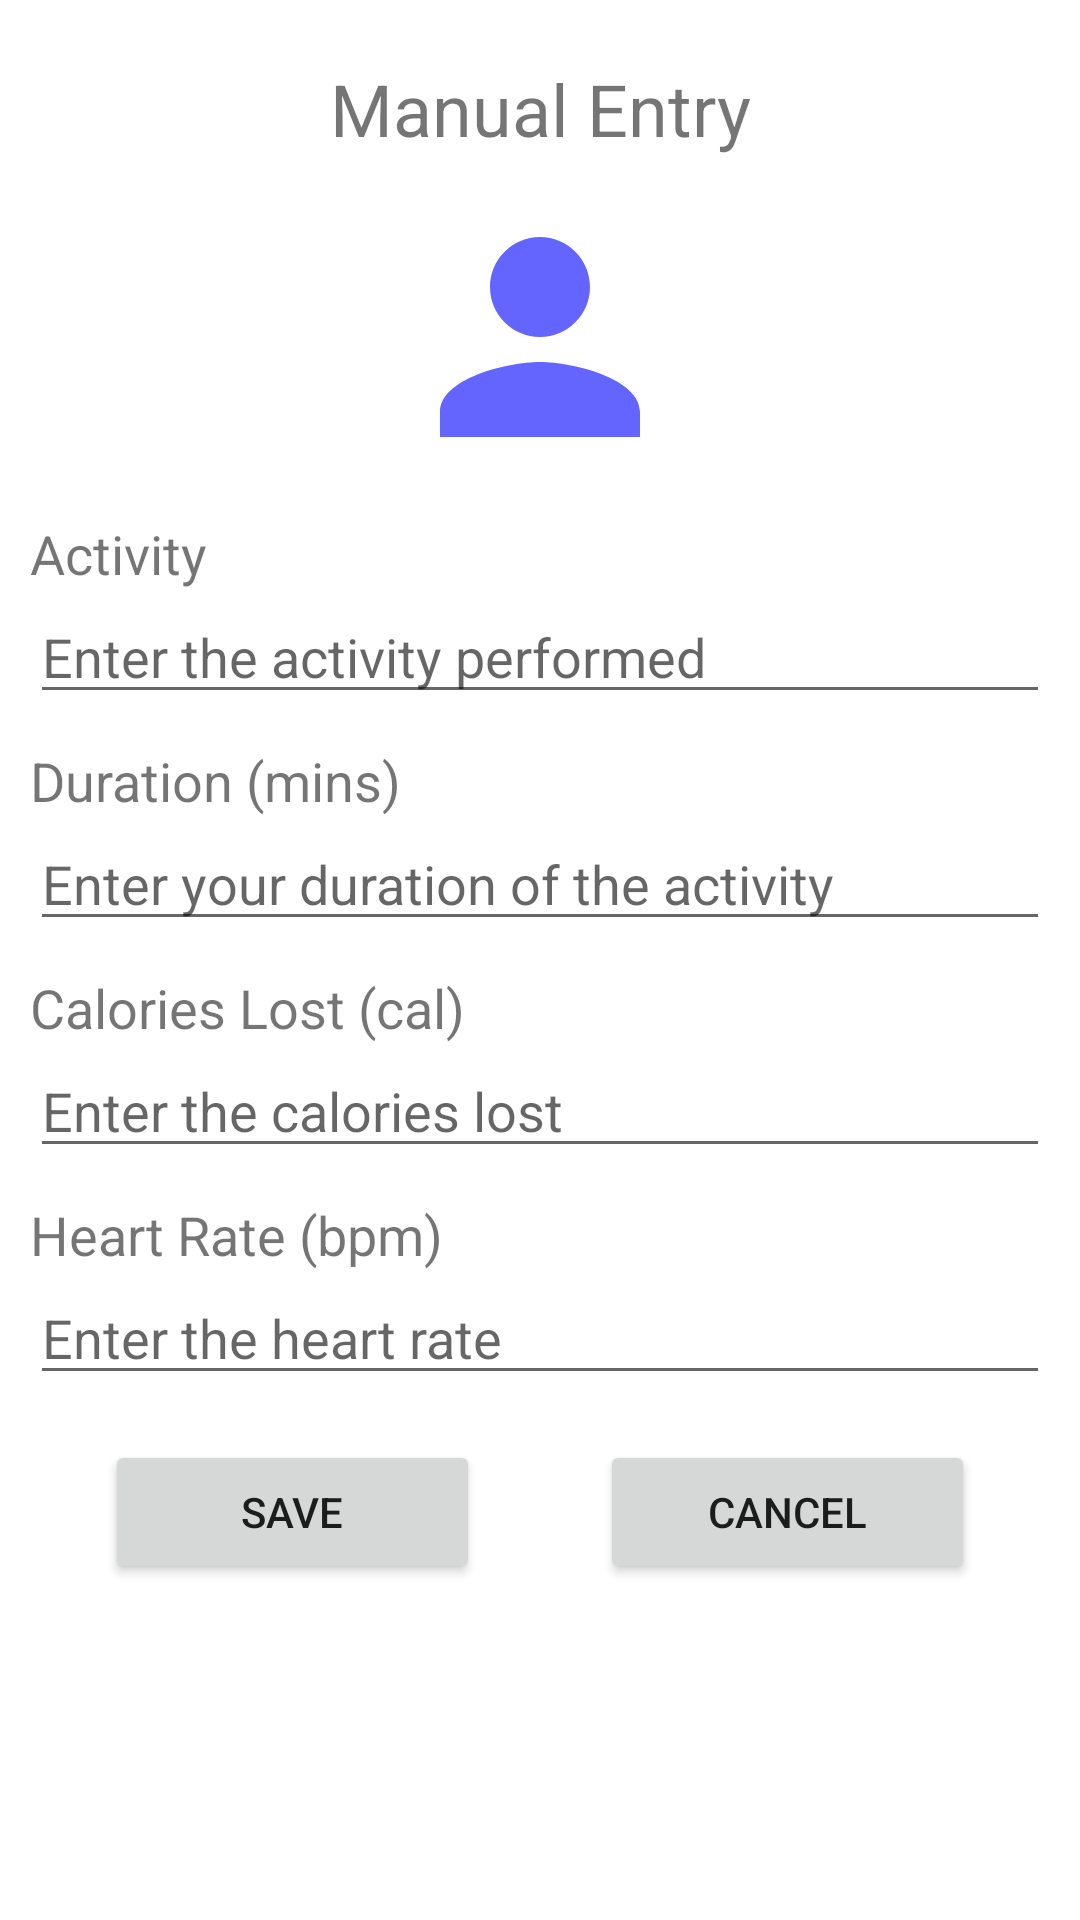

Icon bounding boxes for this 1080 × 1920 phone screenshot, format (x1, y1, x2, y2):
person: (440, 237, 640, 437)
